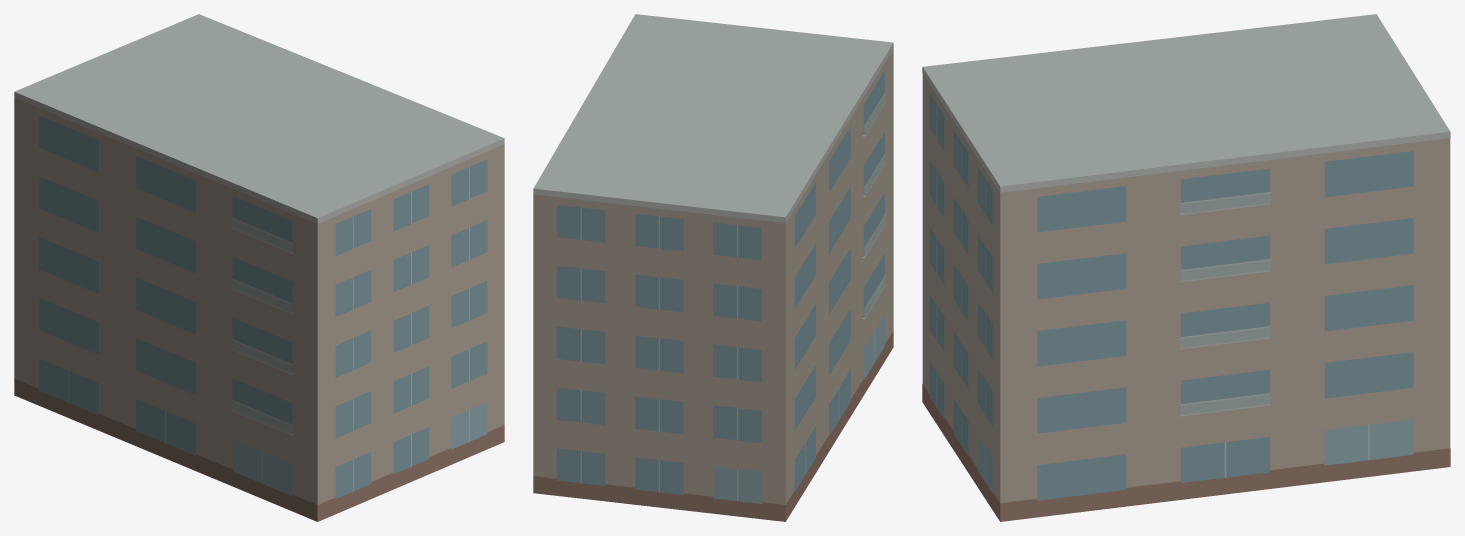
File: survey-upis-32575071.glb
3 renders of one model, left to right at view 1: azimuth 30°, elevation 25°; view 2: azimuth 150°, elevation 25°; view 3: azimuth 270°, elevation 25°, orthographic. The views are drawn at different scales.
Visible parts, largest first — view 1: survey-upis-32575071.tmp; view 2: survey-upis-32575071.tmp; view 3: survey-upis-32575071.tmp.
Boxes of the visible parts, left/top/right/bottom form: survey-upis-32575071.tmp: left=14, top=14, right=504, bottom=521; survey-upis-32575071.tmp: left=533, top=14, right=893, bottom=521; survey-upis-32575071.tmp: left=922, top=14, right=1450, bottom=521.
Bounding box in the file's own units: 14.19 × 12.85 × 18.35.
